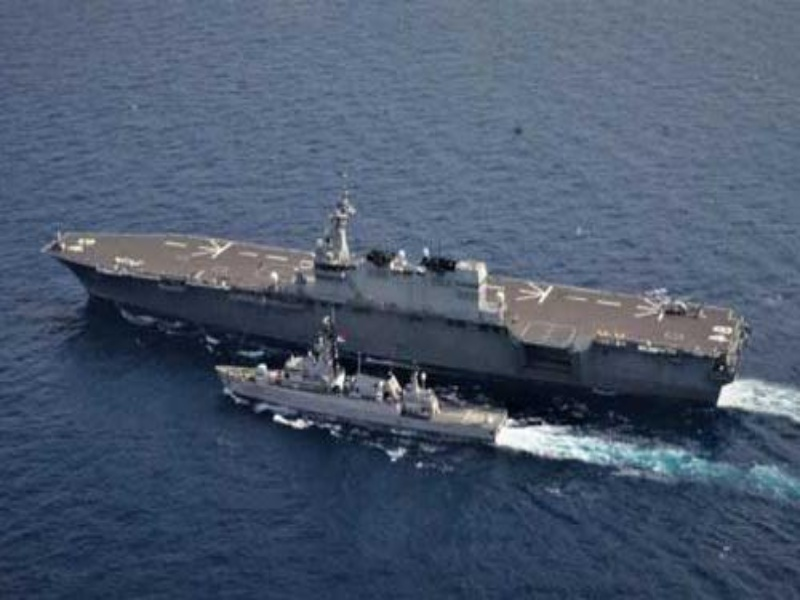carrier: (60, 180, 742, 372)
cruise: (209, 342, 506, 444)
